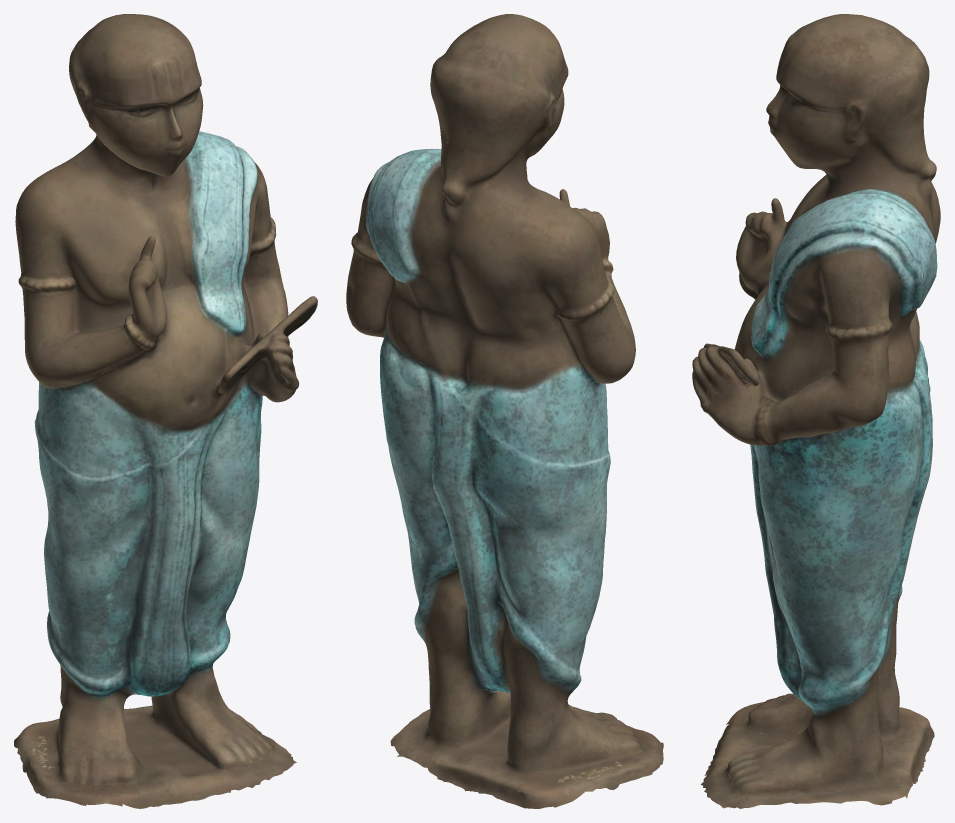
The model's file is Pandit.glb.
3 views of the same model, side by side, from view 1: azimuth 30°, elevation 25°; view 2: azimuth 150°, elevation 25°; view 3: azimuth 270°, elevation 25° (orthographic). The views are drawn at different scales.
Parts seen in each view (by area): view 1: Pandit_export; view 2: Pandit_export; view 3: Pandit_export.
Boxes of the visible parts, x1=… form: Pandit_export: x1=14, y1=14, x2=317, y2=808; Pandit_export: x1=346, y1=14, x2=663, y2=808; Pandit_export: x1=692, y1=14, x2=940, y2=808.
Bounding box in the file's own units: 4.13 × 10.65 × 3.2.
1 material, 1 textured.
